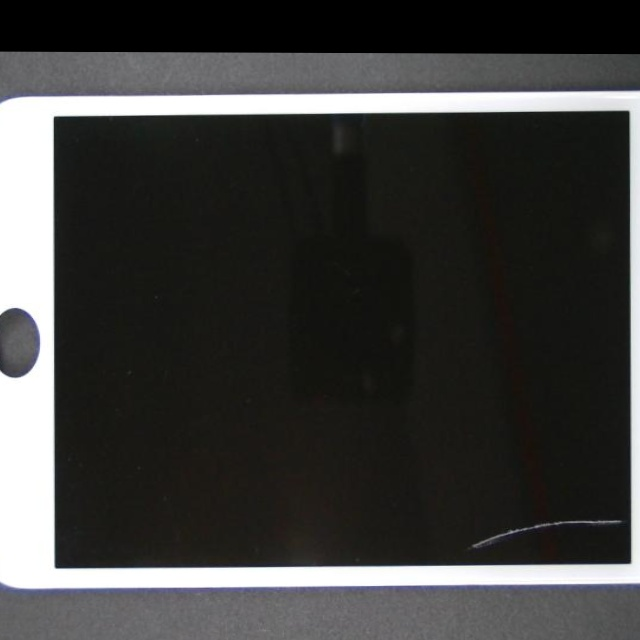scratch: (192, 305, 640, 640)
